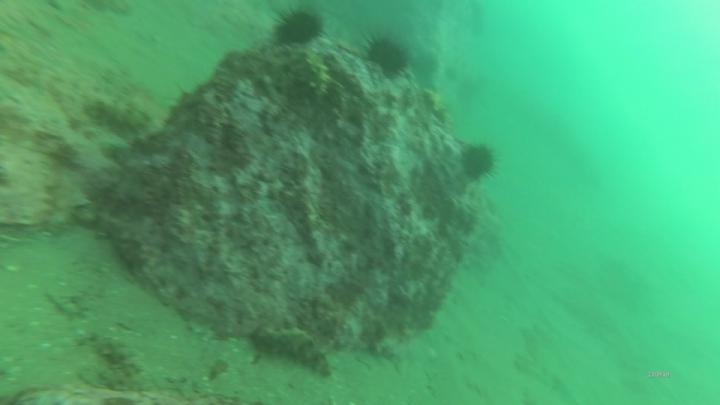echinus: (359, 26, 414, 82), (271, 4, 331, 49), (459, 135, 504, 185)
holothurian: (257, 320, 336, 383), (87, 335, 151, 393), (84, 92, 156, 139), (302, 50, 335, 98)
